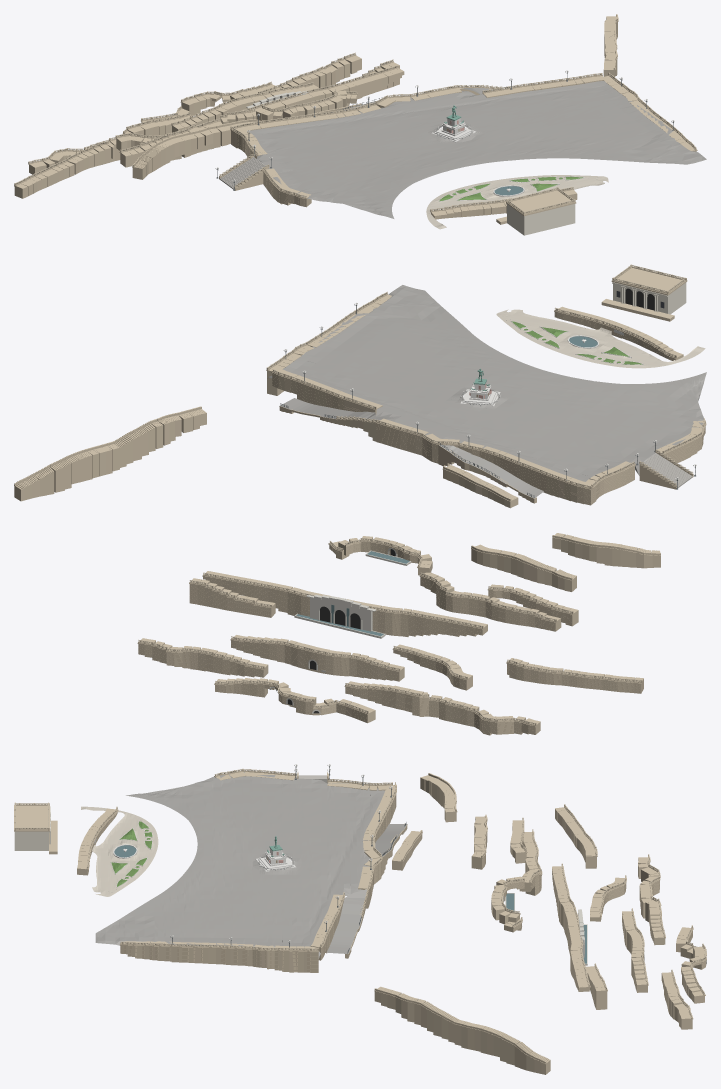
File: piazzale.glb
3 views of the same model, one above another, from view 1: azimuth 30°, elevation 25°; view 2: azimuth 150°, elevation 25°; view 3: azimuth 270°, elevation 25° (orthographic). The views are drawn at different scales.
Visible parts, largest first — view 1: piazzale_asfalto@1960-99999.asph, rampe@1876-99999.forte, piazzale@1869-99999.forte, viale_muri@1869-99999.forte, rampe@1876-99999.ghisa, loggia@1873-99999.path, loggia@1873-99999.forte, loggia@1873-99999.stucco, piazzale@1869-99999.ghisa, piazzale@1869-99999.step, loggia@1873-99999.grass, monumento_david@1873-99999.marble (+2 smaller); view 2: piazzale_asfalto@1960-99999.asph, rampe@1876-99999.forte, viale_muri@1869-99999.forte, piazzale@1869-99999.forte, rampe@1876-99999.fortedk, loggia@1873-99999.path, loggia@1873-99999.forte, rampe@1876-99999.ghisa, rampe@1876-99999.spugne, piazzale@1869-99999.ghisa, loggia@1873-99999.stucco, piazzale@1869-99999.fortedk (+1 smaller); view 3: piazzale_asfalto@1960-99999.asph, rampe@1876-99999.forte, piazzale@1869-99999.forte, viale_muri@1869-99999.forte, loggia@1873-99999.path, loggia@1873-99999.forte, rampe@1876-99999.ghisa, piazzale@1869-99999.fortedk, piazzale@1869-99999.ghisa, loggia@1873-99999.stucco, loggia@1873-99999.grass, monumento_david@1873-99999.marble.
Part boxes in pixels (x1,y1,x2,y2): piazzale_asfalto@1960-99999.asph: [248, 81, 706, 218]; rampe@1876-99999.forte: [14, 54, 404, 198]; piazzale@1869-99999.forte: [219, 72, 697, 207]; viale_muri@1869-99999.forte: [132, 14, 618, 179]; rampe@1876-99999.ghisa: [16, 52, 398, 184]; loggia@1873-99999.path: [426, 175, 608, 229]; loggia@1873-99999.forte: [430, 187, 577, 224]; loggia@1873-99999.stucco: [506, 203, 575, 235]; piazzale@1869-99999.ghisa: [219, 73, 696, 197]; piazzale@1869-99999.step: [219, 157, 265, 189]; loggia@1873-99999.grass: [439, 176, 583, 201]; monumento_david@1873-99999.marble: [432, 118, 476, 142]; piazzale_asfalto@1960-99999.asph: [267, 285, 706, 498]; rampe@1876-99999.forte: [137, 536, 643, 735]; viale_muri@1869-99999.forte: [14, 406, 660, 591]; piazzale@1869-99999.forte: [266, 293, 706, 505]; rampe@1876-99999.fortedk: [138, 542, 639, 734]; loggia@1873-99999.path: [496, 309, 705, 368]; loggia@1873-99999.forte: [554, 264, 687, 360]; rampe@1876-99999.ghisa: [138, 538, 640, 724]; rampe@1876-99999.spugne: [269, 548, 411, 713]; piazzale@1869-99999.ghisa: [268, 291, 705, 487]; loggia@1873-99999.stucco: [612, 282, 686, 314]; piazzale@1869-99999.fortedk: [272, 377, 705, 503]; piazzale_asfalto@1960-99999.asph: [95, 772, 406, 958]; rampe@1876-99999.forte: [491, 804, 706, 1029]; piazzale@1869-99999.forte: [120, 768, 396, 972]; viale_muri@1869-99999.forte: [345, 773, 550, 1074]; loggia@1873-99999.path: [81, 806, 158, 896]; loggia@1873-99999.forte: [14, 802, 118, 875]; rampe@1876-99999.ghisa: [501, 805, 705, 1017]; piazzale@1869-99999.fortedk: [120, 797, 395, 971]; piazzale@1869-99999.ghisa: [120, 769, 395, 950]; loggia@1873-99999.stucco: [14, 806, 50, 850]; loggia@1873-99999.grass: [111, 821, 152, 886]; monumento_david@1873-99999.marble: [255, 848, 296, 871].
Bounding box in the file's own units: 279 × 69.71 × 283.
